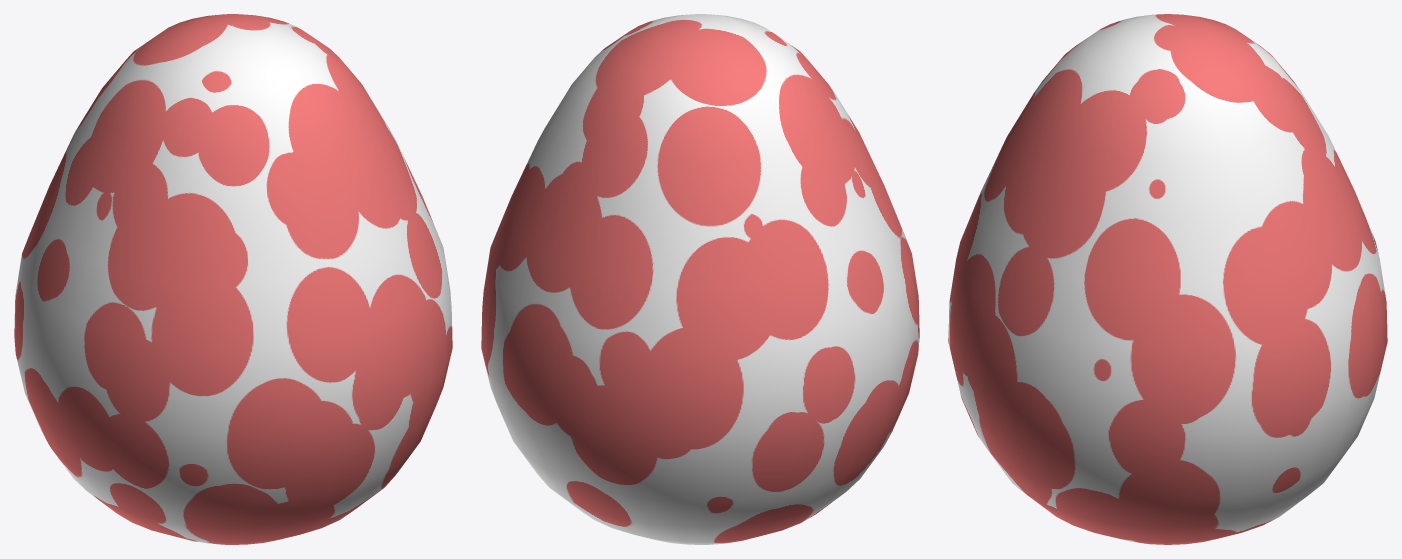
Rendered from Egg.fbx.
3 renders of one model, left to right at view 1: azimuth 30°, elevation 25°; view 2: azimuth 150°, elevation 25°; view 3: azimuth 270°, elevation 25°, orthographic.
Parts seen in each view (by area): view 1: Sphere; view 2: Sphere; view 3: Sphere.
Part boxes in pixels (left/top/right/bottom): Sphere: left=14, top=14, right=452, bottom=544; Sphere: left=481, top=14, right=919, bottom=544; Sphere: left=948, top=14, right=1387, bottom=544.
Bounding box in the file's own units: 182 × 227 × 182.
